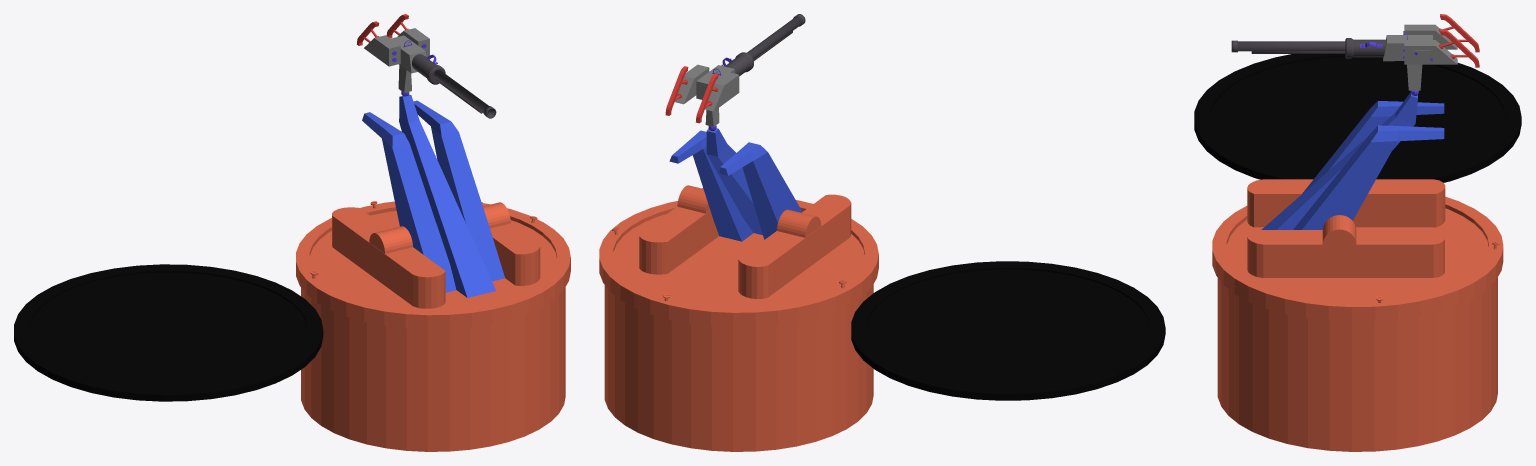
File: LaserGun_V2.fbx
3 views of the same model, side by side, from view 1: azimuth 30°, elevation 25°; view 2: azimuth 150°, elevation 25°; view 3: azimuth 270°, elevation 25° (orthographic). The views are drawn at different scales.
Visible parts, largest first — view 1: Cylinder.019, Hatch.002, Hatch.001, GunBase, Hatch, Cube.010, Cube.002, Cube.001, Cube.007, Cylinder.003; view 2: Cylinder.019, Hatch.002, Hatch.001, GunBase, Hatch, Cube.002, Cube.001, Cube.010, Cube.007, Cylinder.003; view 3: Cylinder.019, GunBase, Hatch.001, Hatch.002, Hatch, Cube.001, Cube.007, Cube.010, Cube.002, Cylinder.003, Cylinder.002, Handle_Left (+2 smaller).
Part boxes in pixels (x1,y1,x2,y2): Cylinder.019: (296, 201, 570, 451); Hatch.002: (99, 272, 307, 381); Hatch.001: (29, 280, 234, 388); GunBase: (332, 202, 540, 308); Hatch: (14, 264, 323, 401); Cube.010: (399, 94, 495, 297); Cube.002: (362, 112, 456, 292); Cube.001: (413, 100, 504, 281); Cube.007: (364, 28, 429, 73); Cylinder.003: (433, 70, 496, 118); Cylinder.019: (599, 200, 878, 451); Hatch.002: (866, 269, 1079, 379); Hatch.001: (939, 278, 1149, 387); GunBase: (639, 185, 851, 298); Hatch: (851, 261, 1165, 400); Cube.002: (719, 142, 802, 239); Cube.001: (669, 130, 753, 241); Cube.010: (706, 128, 762, 235); Cube.007: (675, 64, 739, 111); Cylinder.003: (747, 14, 805, 59); Cylinder.019: (1212, 196, 1503, 451); GunBase: (1247, 179, 1445, 277); Hatch.001: (1210, 57, 1505, 118); Hatch.002: (1210, 118, 1504, 178); Hatch: (1194, 54, 1521, 182); Cube.001: (1293, 125, 1444, 229); Cube.007: (1383, 24, 1457, 64); Cube.010: (1261, 92, 1417, 229); Cube.002: (1302, 101, 1444, 193); Cylinder.003: (1231, 40, 1345, 52); Cylinder.002: (1345, 38, 1386, 58); Handle_Left: (1438, 29, 1479, 67).
Bounding box in the file's own units: 678 × 436 × 350.
